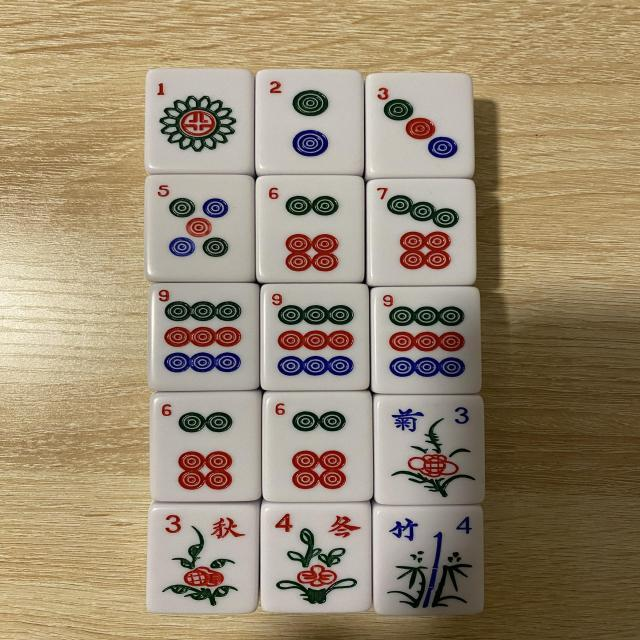bf3: (376, 396, 483, 502)
bf4: (375, 508, 483, 612)
bs3: (150, 506, 256, 610)
bs4: (261, 506, 371, 608)
sd1: (148, 70, 251, 170)
sd2: (258, 72, 362, 172)
sd3: (368, 78, 466, 172)
sd5: (146, 176, 254, 278)
sd6: (150, 394, 260, 500), (264, 393, 369, 498), (255, 177, 362, 280)
sd7: (366, 180, 474, 284)
sd9: (372, 290, 479, 392), (150, 285, 255, 388), (262, 285, 366, 388)
